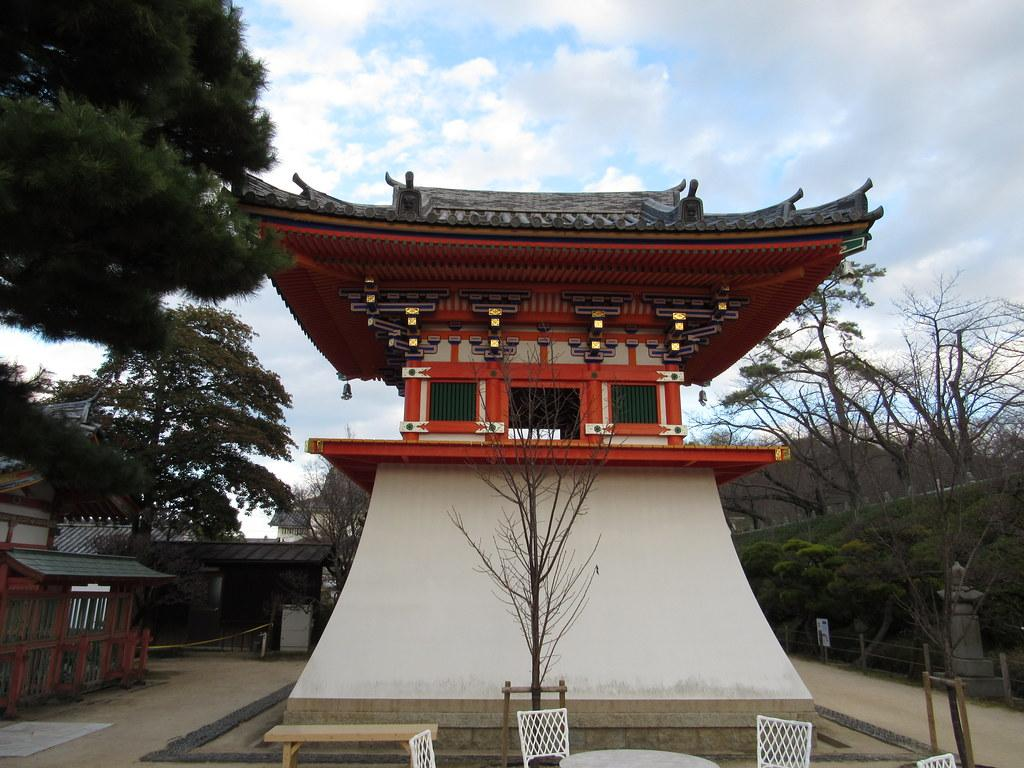temple: (218, 165, 886, 757), (1, 386, 179, 719)
